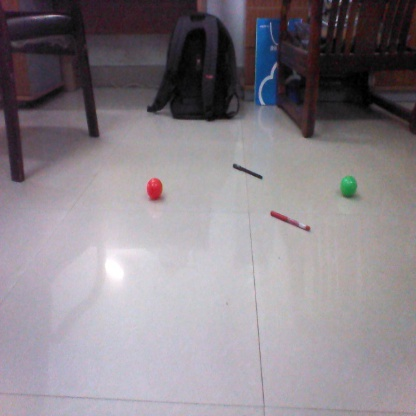ball: (146, 175, 168, 202), (339, 174, 359, 196)
pen: (269, 212, 311, 232), (229, 164, 264, 177)
